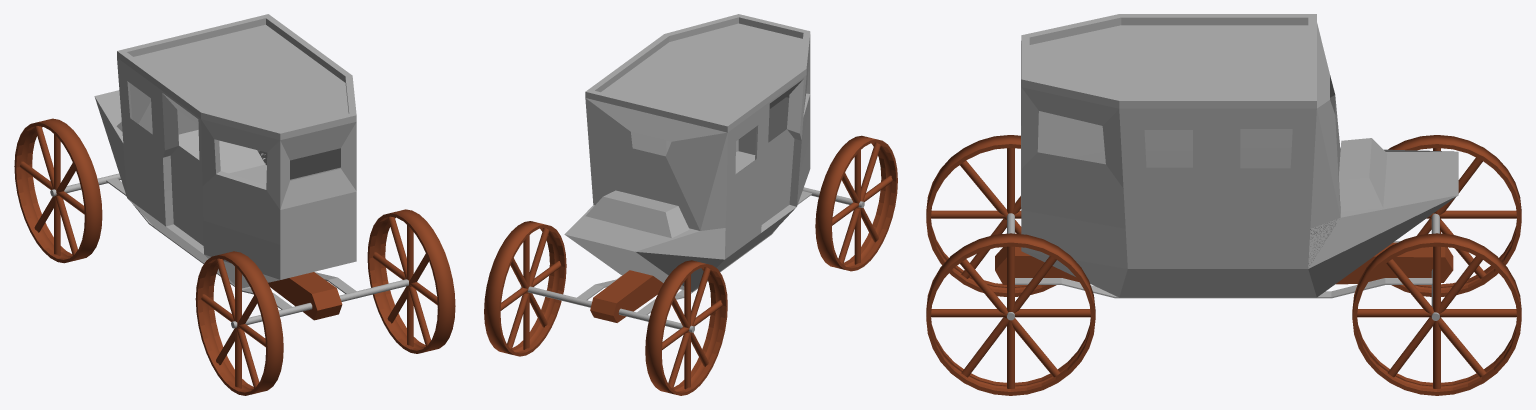
The model's file is kARETA.fbx.
The picture shows the model from 3 angles, left to right: view 1: azimuth 30°, elevation 25°; view 2: azimuth 150°, elevation 25°; view 3: azimuth 270°, elevation 25°; orthographic projection. The views are drawn at different scales.
Visible parts, largest first — view 1: Cube, Cylinder.005, Cylinder.002, Cylinder.003, Cube.002, Cylinder, Cube.005; view 2: Cube, Cylinder.005, Cylinder.002, Cylinder.004, Cube.003, Cube.001, Cylinder.001, Cube.005; view 3: Cube, Cylinder.004, Cylinder.003, Cylinder.002, Cylinder.005, Cube.003, Cube.001, Cube.005, Cube.002.
Boxes of the visible parts, x1=… form: Cube: x1=94, y1=14, x2=356, y2=288; Cylinder.005: x1=14, y1=118, x2=102, y2=263; Cylinder.002: x1=195, y1=251, x2=283, y2=395; Cylinder.003: x1=367, y1=209, x2=455, y2=353; Cube.002: x1=268, y1=272, x2=342, y2=320; Cylinder: x1=231, y1=279, x2=408, y2=328; Cube.005: x1=106, y1=178, x2=356, y2=309; Cube: x1=564, y1=14, x2=810, y2=291; Cylinder.005: x1=645, y1=260, x2=727, y2=395; Cylinder.002: x1=815, y1=135, x2=897, y2=271; Cylinder.004: x1=484, y1=221, x2=566, y2=356; Cube.003: x1=585, y1=190, x2=689, y2=238; Cube.001: x1=590, y1=270, x2=663, y2=322; Cylinder.001: x1=520, y1=286, x2=694, y2=332; Cube.005: x1=577, y1=191, x2=812, y2=314; Cube: x1=1021, y1=14, x2=1458, y2=297; Cylinder.004: x1=1352, y1=233, x2=1521, y2=395; Cylinder.003: x1=926, y1=233, x2=1095, y2=395; Cylinder.002: x1=926, y1=135, x2=1056, y2=296; Cylinder.005: x1=1388, y1=135, x2=1521, y2=296; Cube.003: x1=1339, y1=138, x2=1387, y2=211; Cube.001: x1=1336, y1=242, x2=1453, y2=284; Cube.005: x1=1015, y1=241, x2=1432, y2=298; Cube.002: x1=995, y1=247, x2=1079, y2=284.
Size of the model in its own units: 610 by 748 by 1425.
